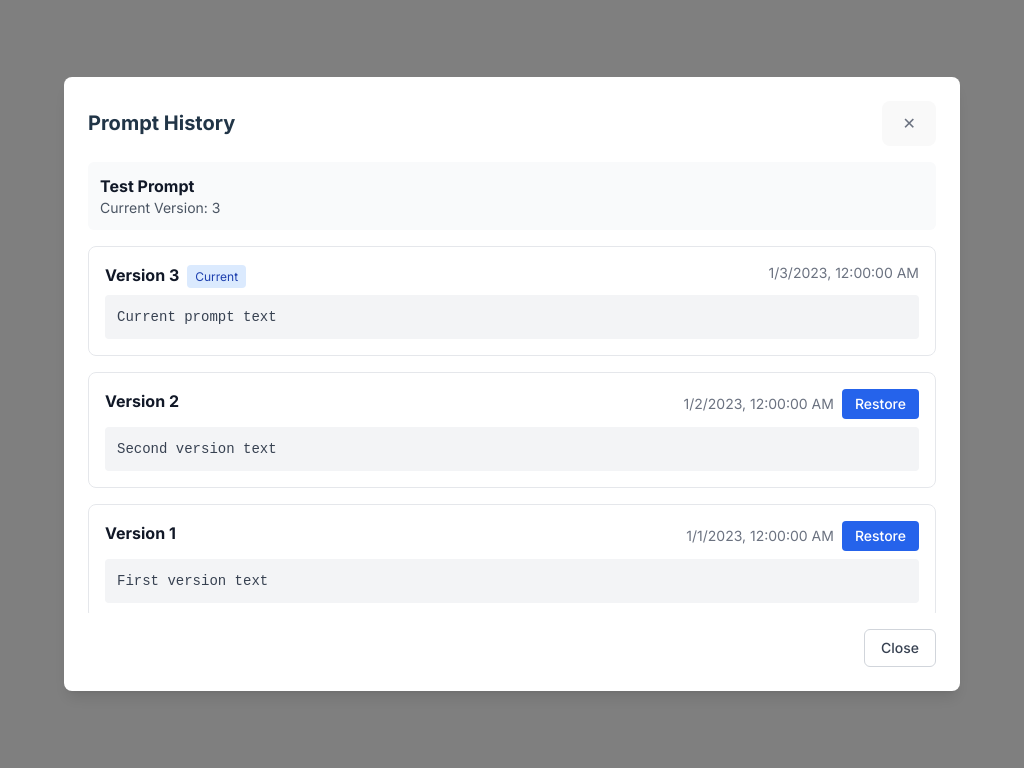
Test case: PromptHistoryModal › disables buttons while restoring
The image size is (1024, 768).
Expected: the text "Version 2" is shown, [105,391,179,411]
What coordinates should you click on to do the following:
click the button "Restore" next to "1/2/2023, 12:00:00 AM"
I would click on:
 (880, 404)
Its box is [842,389,919,419].
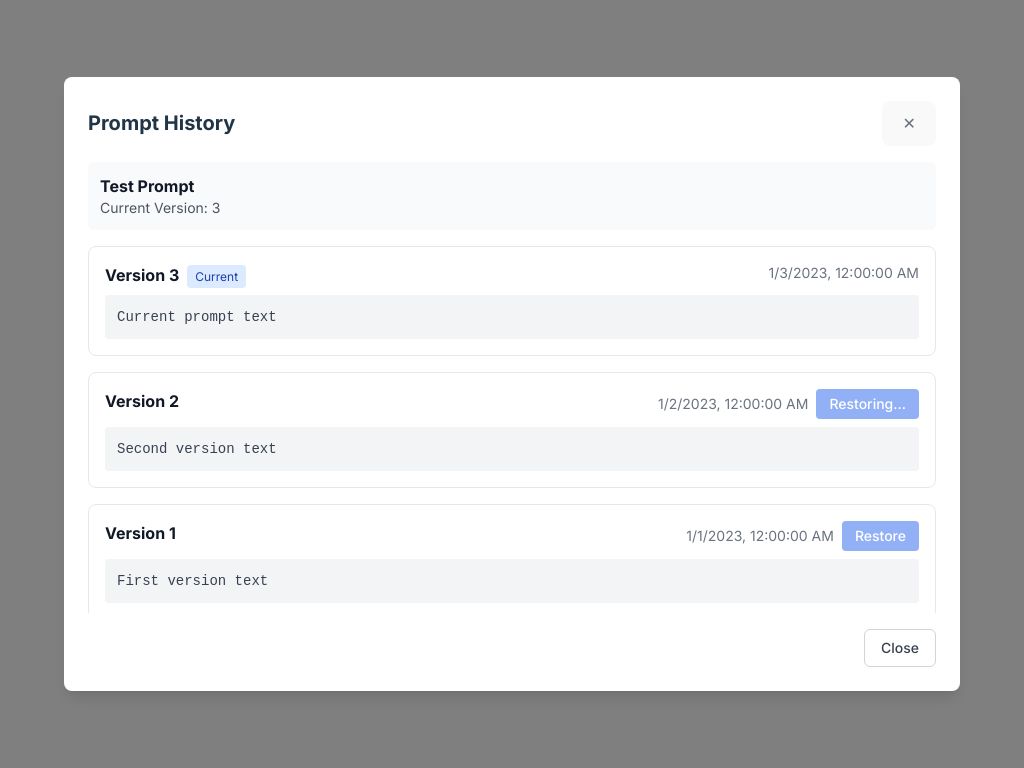
Expected: the button "Close" is disabled, [864,629,936,667]
Expected: the button "Restoring..." is disabled, [816,389,919,419]
